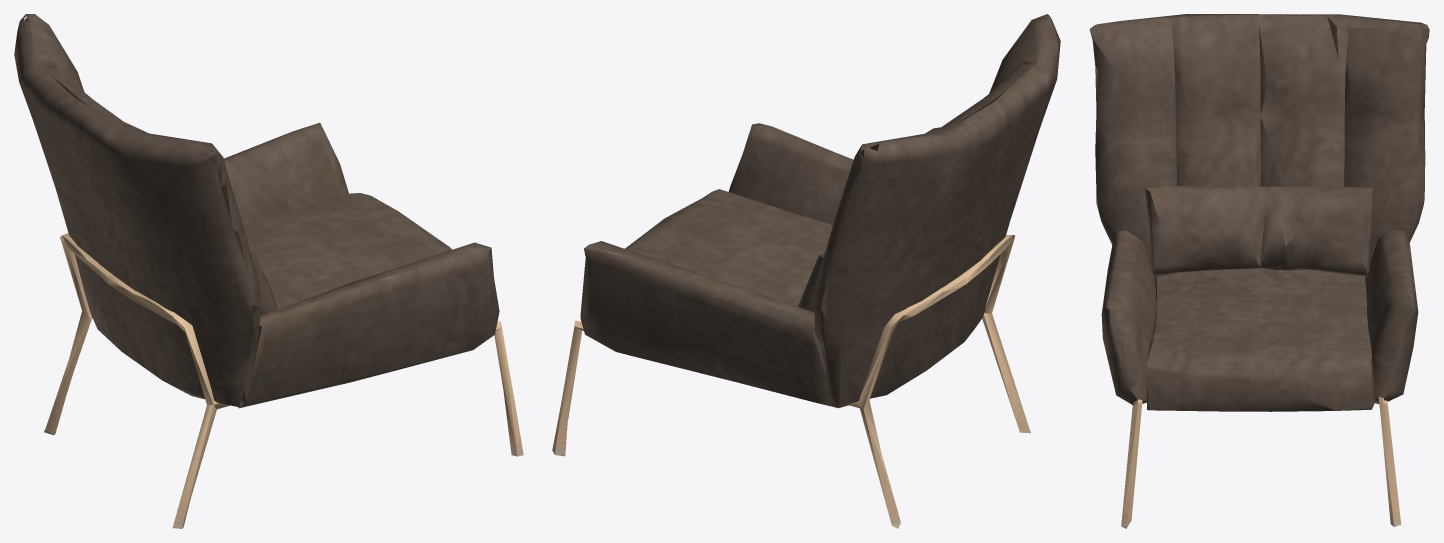
Rendered from S_Sofa0013.obj.
The picture shows the model from 3 angles, left to right: view 1: azimuth 30°, elevation 25°; view 2: azimuth 150°, elevation 25°; view 3: azimuth 270°, elevation 25°; orthographic projection. The views are drawn at different scales.
Bounding box in the file's own units: 0.756 × 0.745 × 0.638.
Materials: 1 (1 with a texture image).
